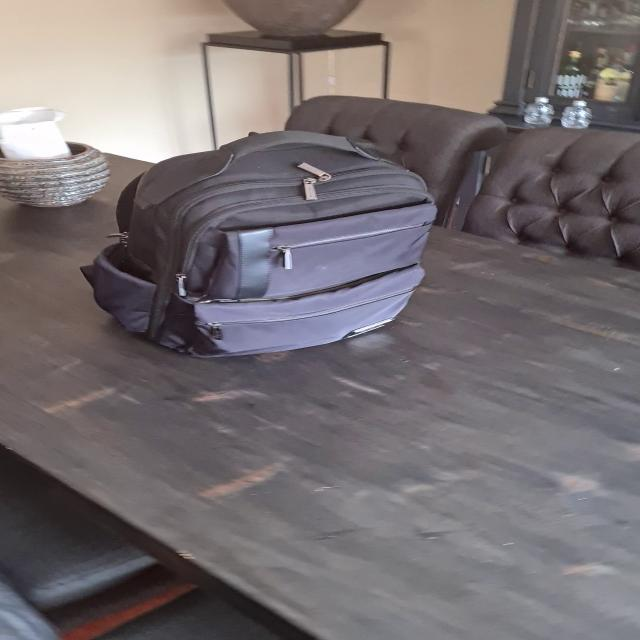backpack: (74, 122, 466, 364)
